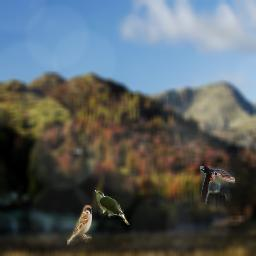Cuckoo: (94, 190, 130, 225)
Sparrow: (67, 205, 92, 245)
Swallow: (200, 166, 235, 204)
